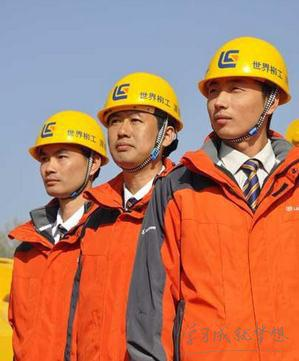helmet: (192, 32, 295, 144), (96, 68, 186, 171), (29, 105, 108, 197)
